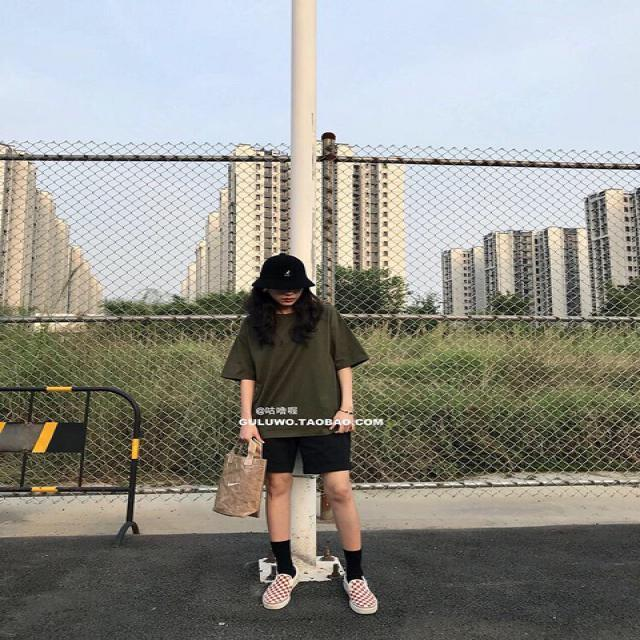Shirt: (224, 311, 372, 439)
